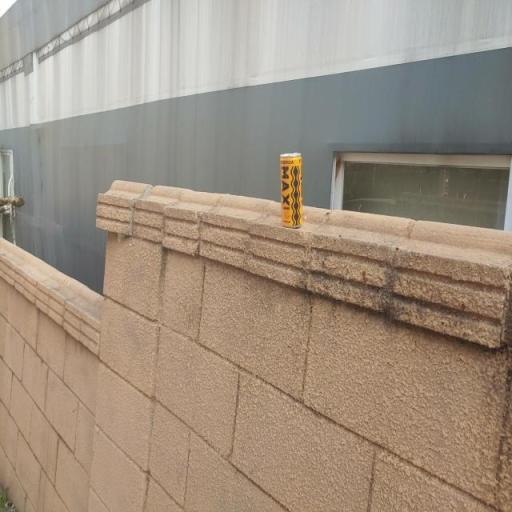metal: (268, 141, 310, 233)
